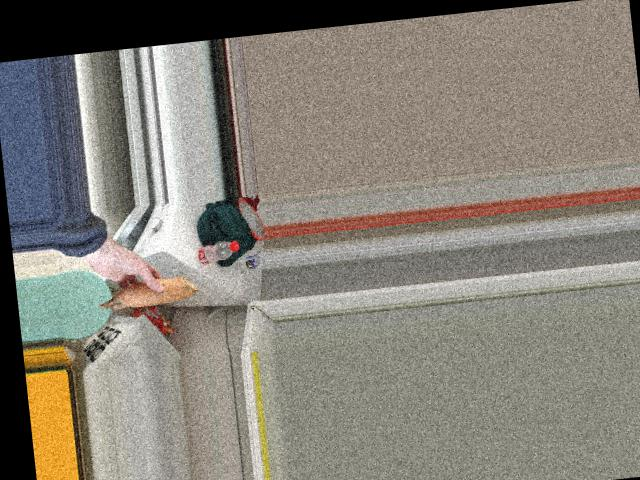sweet_potato: (103, 271, 192, 312)
